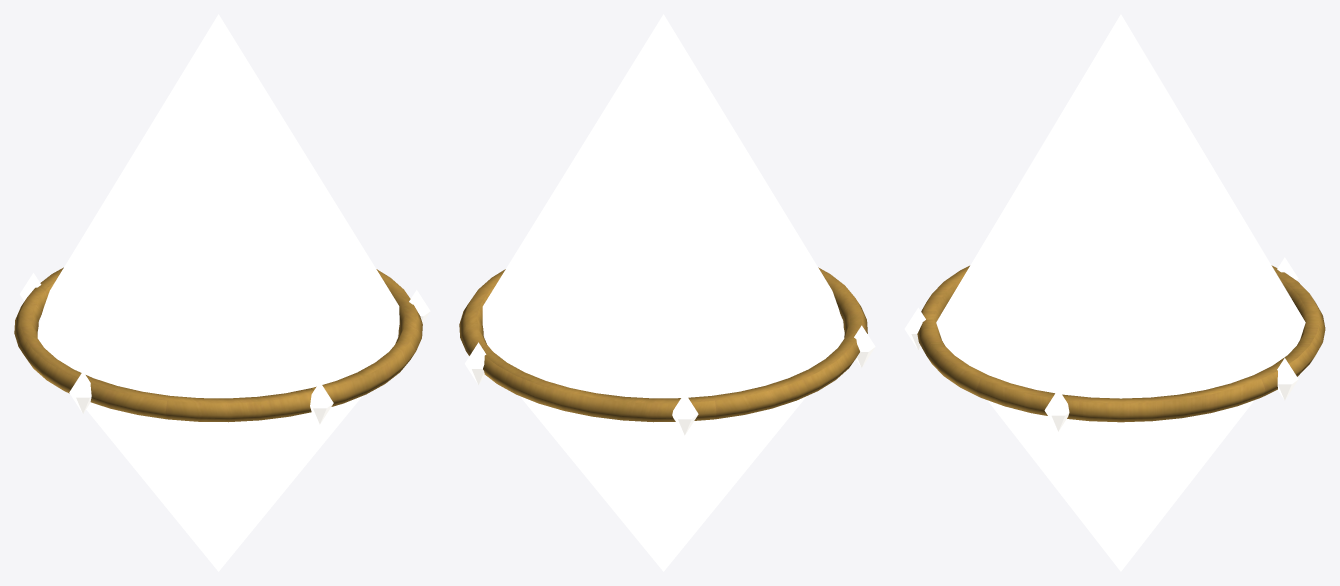
Rendered from lb_seal_7.glb.
3 views of the same model, side by side, from view 1: azimuth 30°, elevation 25°; view 2: azimuth 150°, elevation 25°; view 3: azimuth 270°, elevation 25° (orthographic).
Visible parts, largest first — view 1: lb_seal_7; view 2: lb_seal_7; view 3: lb_seal_7.
Part boxes in pixels (bbox=[...]): lb_seal_7: bbox=[14, 14, 430, 571]; lb_seal_7: bbox=[459, 14, 875, 571]; lb_seal_7: bbox=[904, 14, 1325, 571].
Bounding box in the file's own units: 2.06 × 3.1 × 2.12.
Materials: 3 (1 with a texture image).
